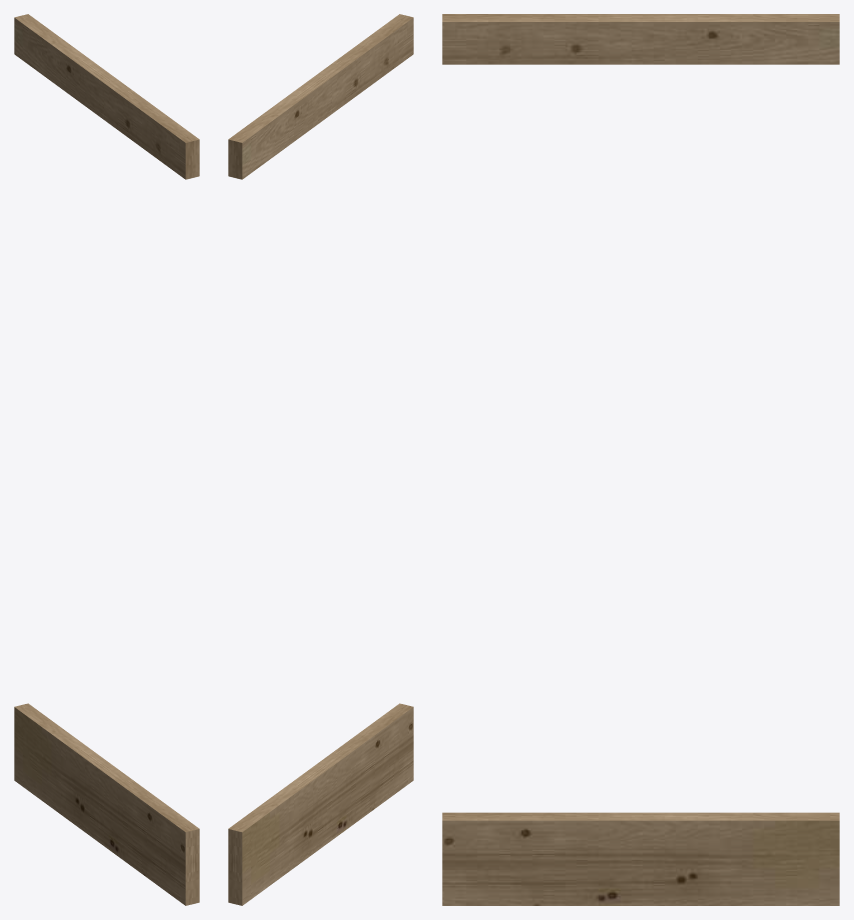
File: Joglo_part_95.fbx
3 views of the same model, side by side, from view 1: azimuth 30°, elevation 25°; view 2: azimuth 150°, elevation 25°; view 3: azimuth 270°, elevation 25° (orthographic). The views are drawn at different scales.
Visible parts, largest first — view 1: Mesh183_Wood___Pine_Grained_Horizontal_0.001; view 2: Mesh183_Wood___Pine_Grained_Horizontal_0.001; view 3: Mesh183_Wood___Pine_Grained_Horizontal_0.001.
Boxes of the visible parts, x1=… form: Mesh183_Wood___Pine_Grained_Horizontal_0.001: x1=14, y1=14, x2=199, y2=905; Mesh183_Wood___Pine_Grained_Horizontal_0.001: x1=228, y1=14, x2=413, y2=905; Mesh183_Wood___Pine_Grained_Horizontal_0.001: x1=442, y1=14, x2=839, y2=905.
Size of the model in its own units: 1.57 by 81.57 by 33.23.
